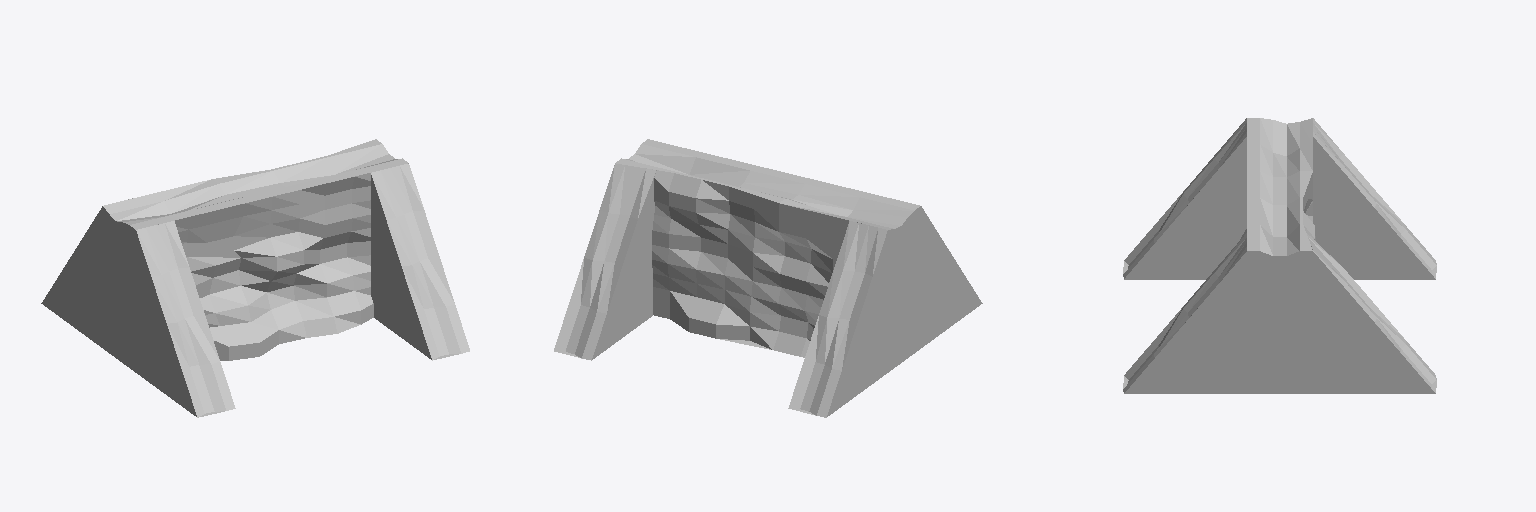
Rendered from wall_default.1420d44b.obj.
3 renders of one model, left to right at view 1: azimuth 30°, elevation 25°; view 2: azimuth 150°, elevation 25°; view 3: azimuth 270°, elevation 25°, orthographic.
Visible parts, largest first — view 1: Wall_Cube.015; view 2: Wall_Cube.015; view 3: Wall_Cube.015.
Boxes of the visible parts, x1,y1,x2,y2 form: Wall_Cube.015: [41, 139, 469, 417]; Wall_Cube.015: [554, 139, 982, 417]; Wall_Cube.015: [1123, 118, 1436, 393].
Bounding box in the file's own units: 0.5 × 0.25 × 0.4973.